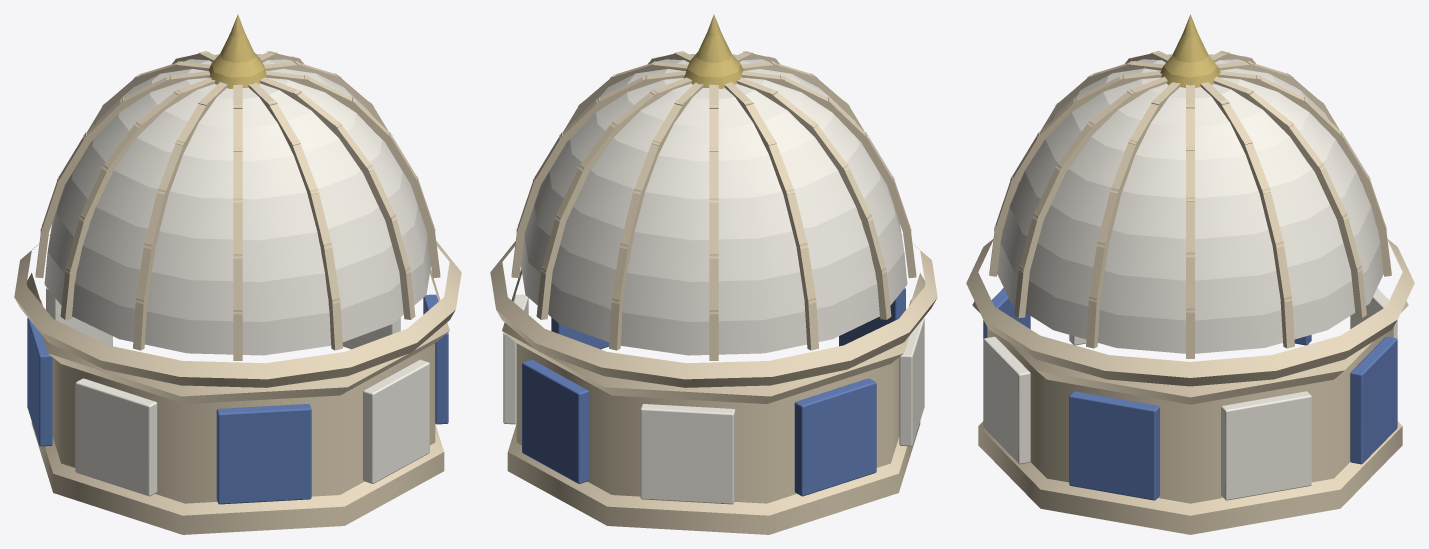
The model's file is plaster-dome-on-dr-13f97c36.glb.
3 views of the same model, side by side, from view 1: azimuth 30°, elevation 25°; view 2: azimuth 150°, elevation 25°; view 3: azimuth 270°, elevation 25° (orthographic).
Parts seen in each view (by area): view 1: plaster-dome-on-drum-small; view 2: plaster-dome-on-drum-small; view 3: plaster-dome-on-drum-small.
Part boxes in pixels (x1,y1,x2,y2): plaster-dome-on-drum-small: (14, 14, 461, 534); plaster-dome-on-drum-small: (490, 14, 937, 534); plaster-dome-on-drum-small: (966, 14, 1414, 534).
Size of the model in its own units: 2.96 by 3.14 by 2.96.
